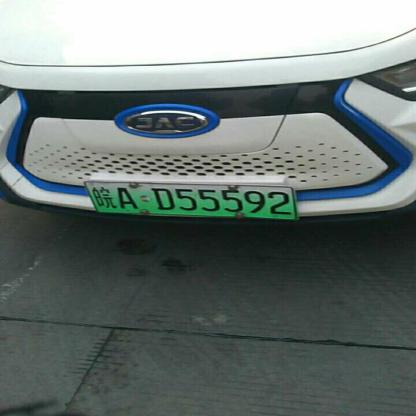lp: (83, 180, 296, 219)
